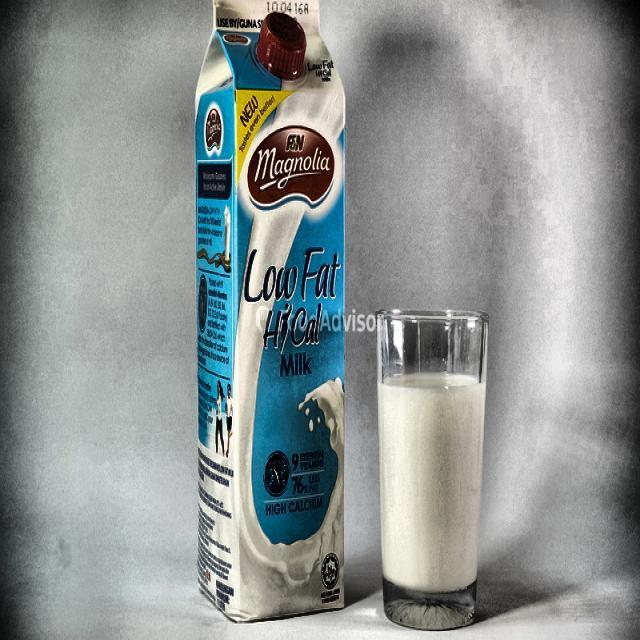cardboard: (193, 0, 347, 623)
